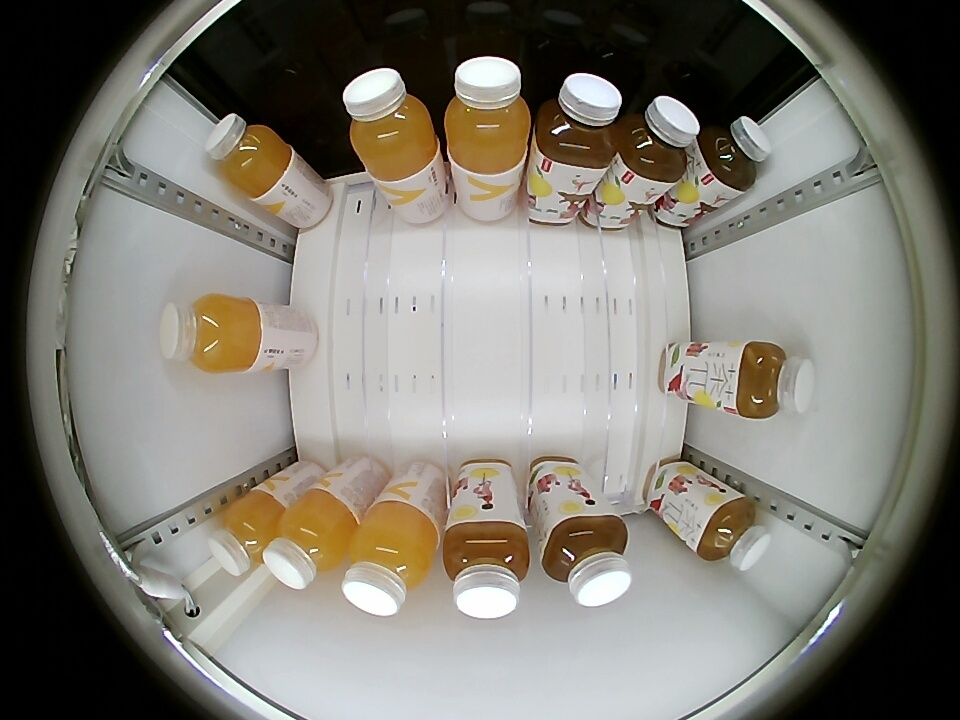chapai: (533, 72, 622, 172), (442, 518, 530, 619), (540, 512, 632, 607), (613, 96, 700, 184), (733, 341, 816, 420), (696, 493, 771, 570), (697, 116, 772, 193)
weic: (342, 502, 439, 616), (343, 67, 440, 180), (443, 56, 531, 172), (264, 489, 358, 589), (158, 293, 264, 374), (205, 113, 291, 200), (209, 489, 286, 577)
